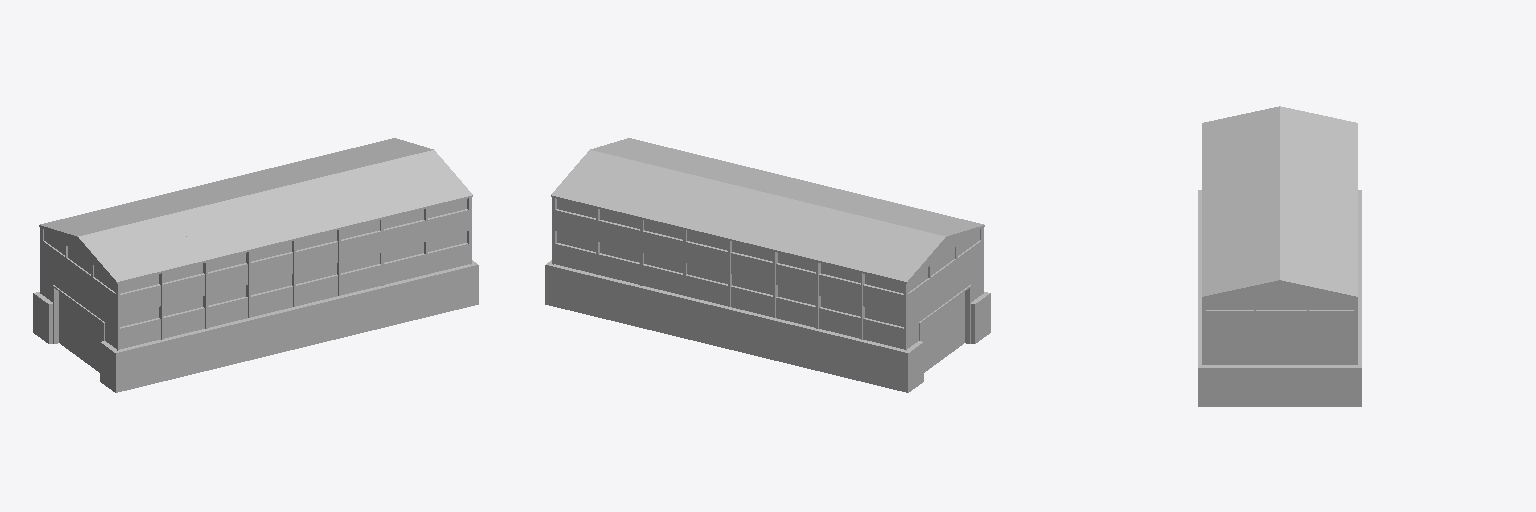
Rendered from Building_9.obj.
The picture shows the model from 3 angles: view 1: azimuth 30°, elevation 25°; view 2: azimuth 150°, elevation 25°; view 3: azimuth 270°, elevation 25°; orthographic projection.
Parts seen in each view (by area): view 1: Building_9; view 2: Building_9; view 3: Building_9.
Part boxes in pixels (x1,y1,x2,y2): Building_9: (33,138,478,392); Building_9: (545,138,990,392); Building_9: (1198,106,1361,406).
Bounding box in the file's own units: 37.53 × 12.42 × 14.71.